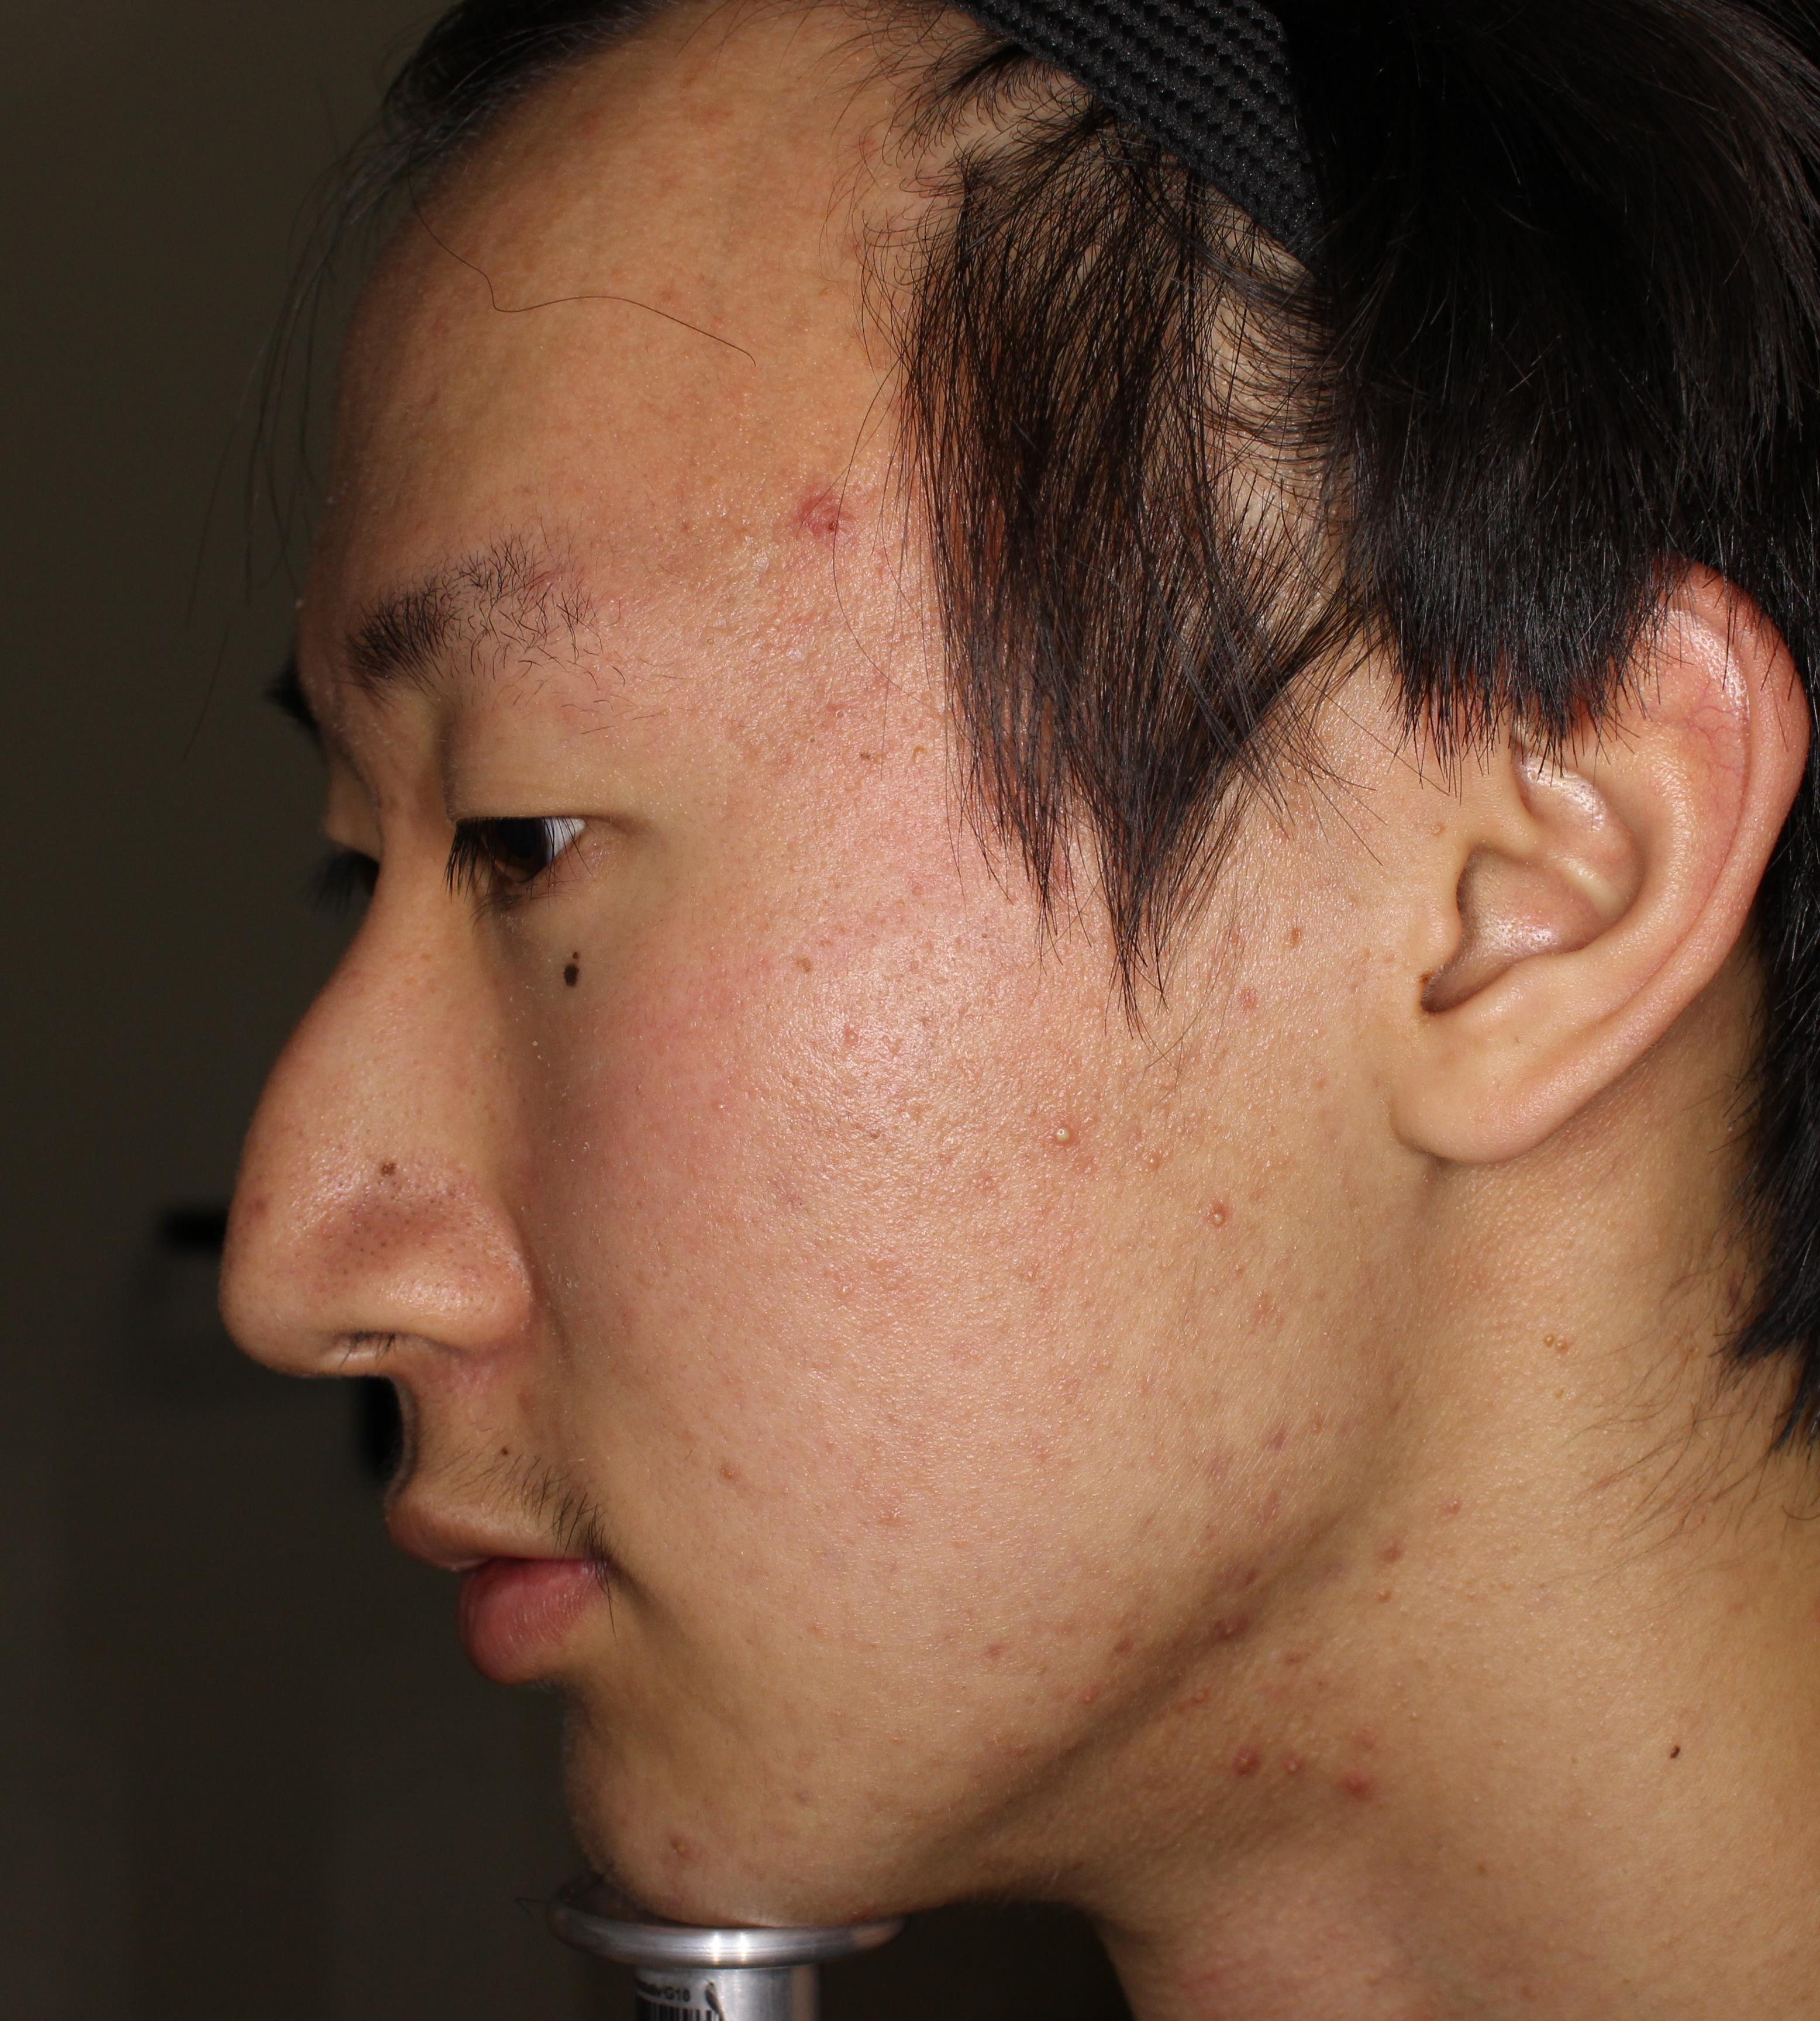fore: (1202, 1586, 1279, 1679), (799, 478, 849, 558)
